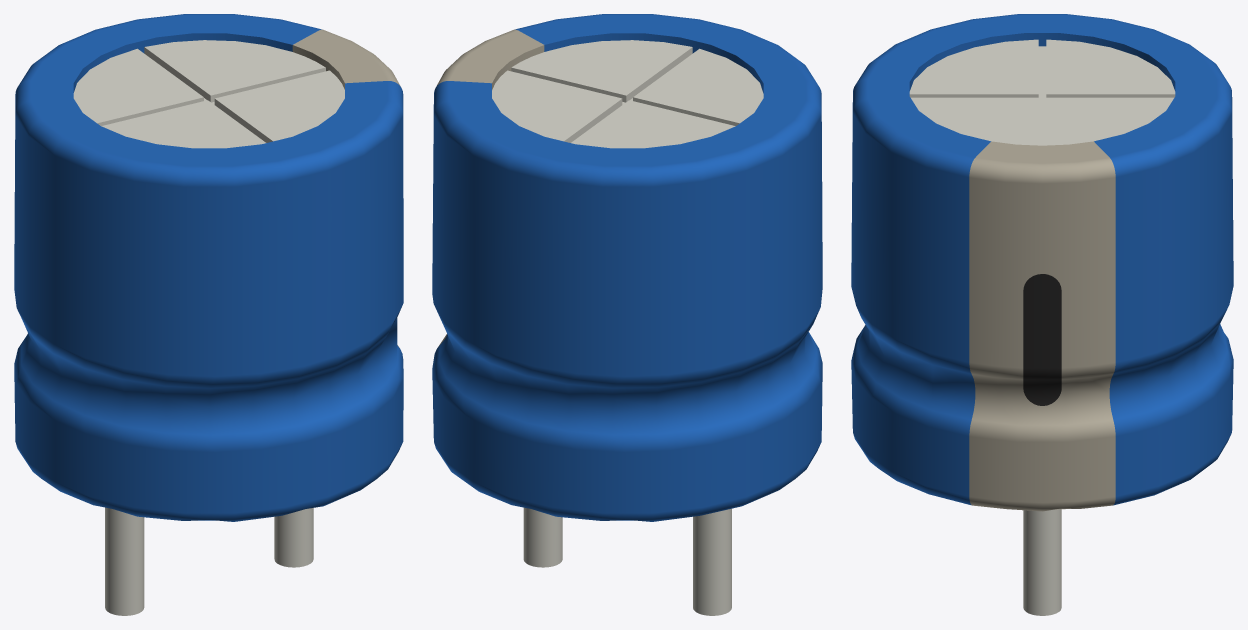
File: CP_Radial_D5.0mm_P2.50mm.glb
3 views of the same model, side by side, from view 1: azimuth 30°, elevation 25°; view 2: azimuth 150°, elevation 25°; view 3: azimuth 270°, elevation 25° (orthographic). The views are drawn at different scales.
Parts seen in each view (by area): view 1: =>[0:1:1:3]; view 2: =>[0:1:1:3]; view 3: =>[0:1:1:3].
Boxes of the visible parts, left/top/right/bottom form: =>[0:1:1:3]: left=14, top=14, right=403, bottom=615; =>[0:1:1:3]: left=432, top=14, right=822, bottom=615; =>[0:1:1:3]: left=851, top=14, right=1233, bottom=615.
Bounding box in the file's own units: 0.00498 × 0.007 × 0.005.
